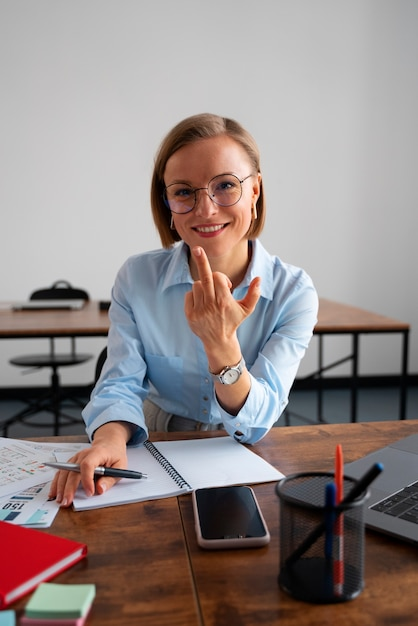insulting_gesture: (182, 245, 262, 344)
